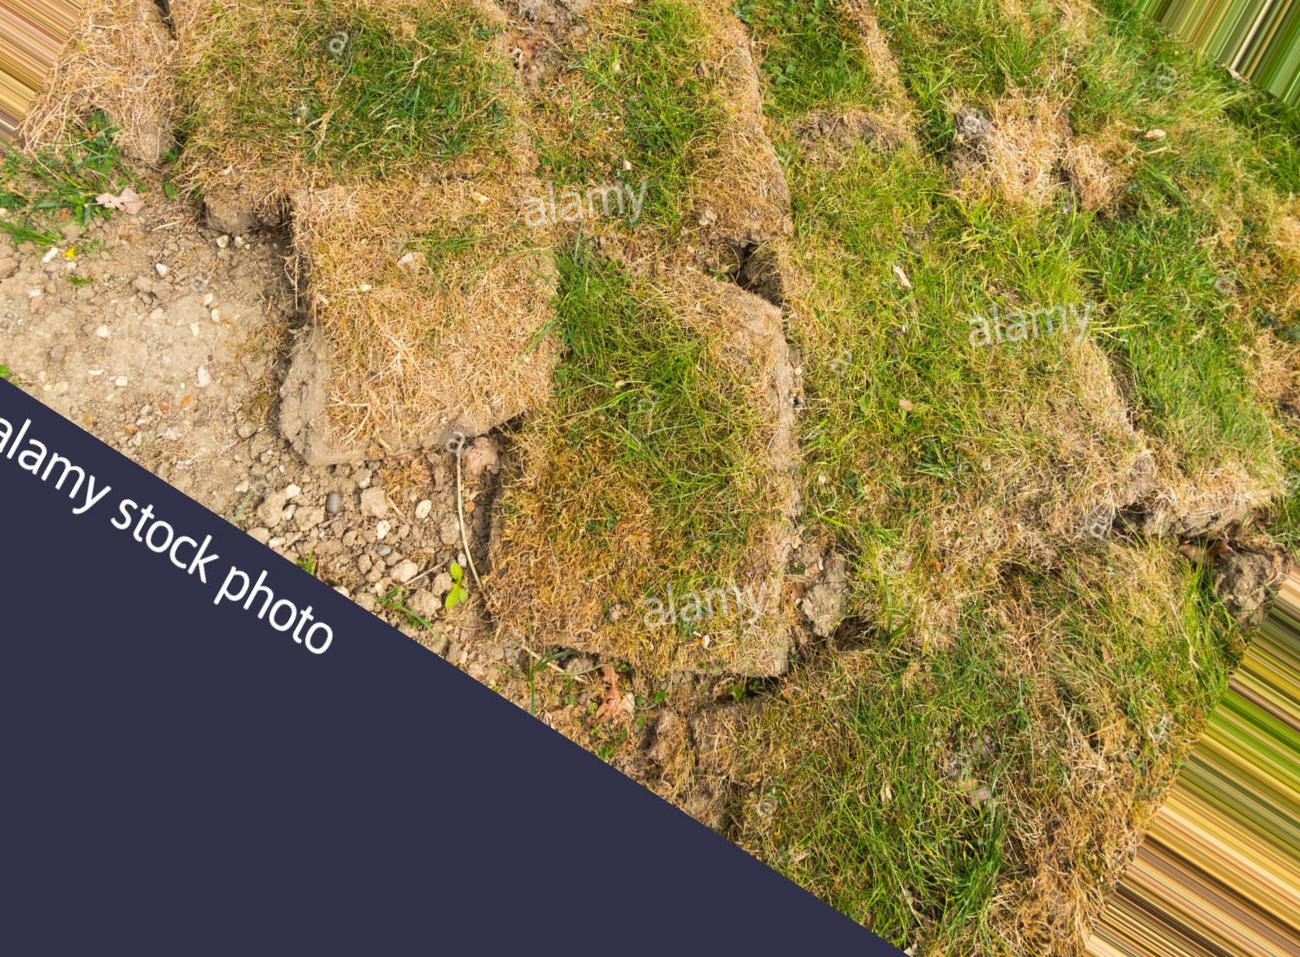patch: (113, 69, 1266, 408), (244, 417, 1176, 549), (503, 564, 849, 688), (632, 700, 693, 759)
